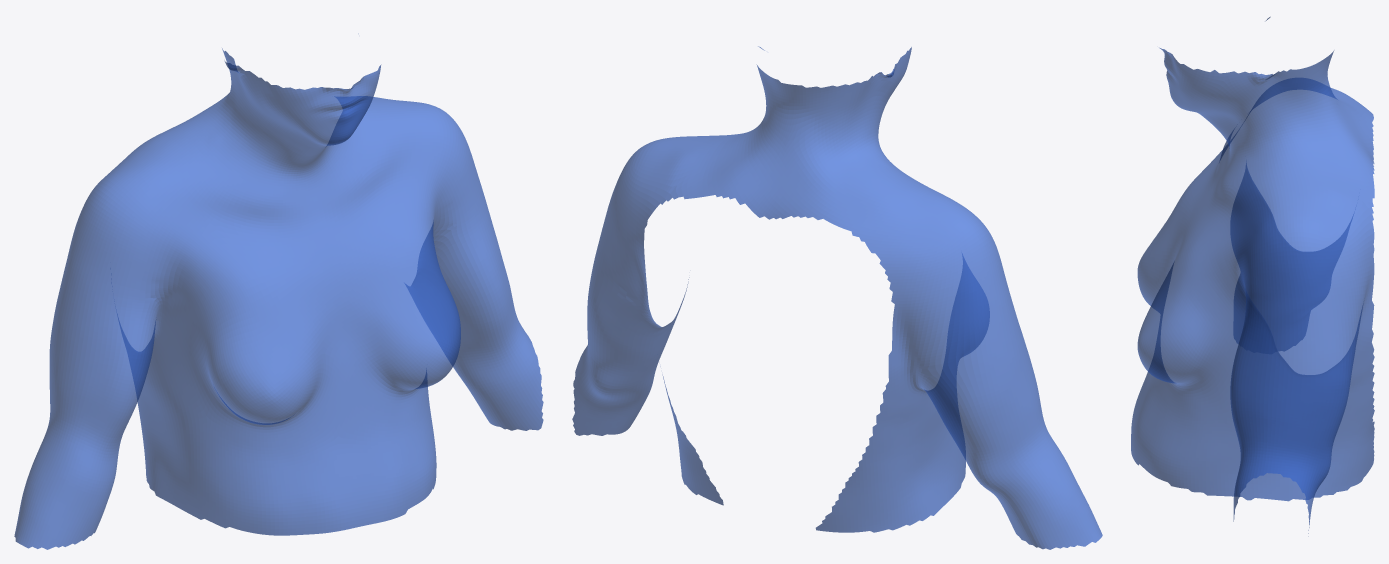
File: skin_torso.glb
3 views of the same model, side by side, from view 1: azimuth 30°, elevation 25°; view 2: azimuth 150°, elevation 25°; view 3: azimuth 270°, elevation 25° (orthographic). The views are drawn at different scales.
Visible parts, largest first — view 1: VH_F_skin; view 2: VH_F_skin; view 3: VH_F_skin.
Part boxes in pixels (bbox=[...]): VH_F_skin: bbox=[14, 33, 543, 549]; VH_F_skin: bbox=[572, 46, 1102, 549]; VH_F_skin: bbox=[1131, 16, 1374, 536].
Size of the model in its own units: 0.6226 by 0.5 by 0.2749.
